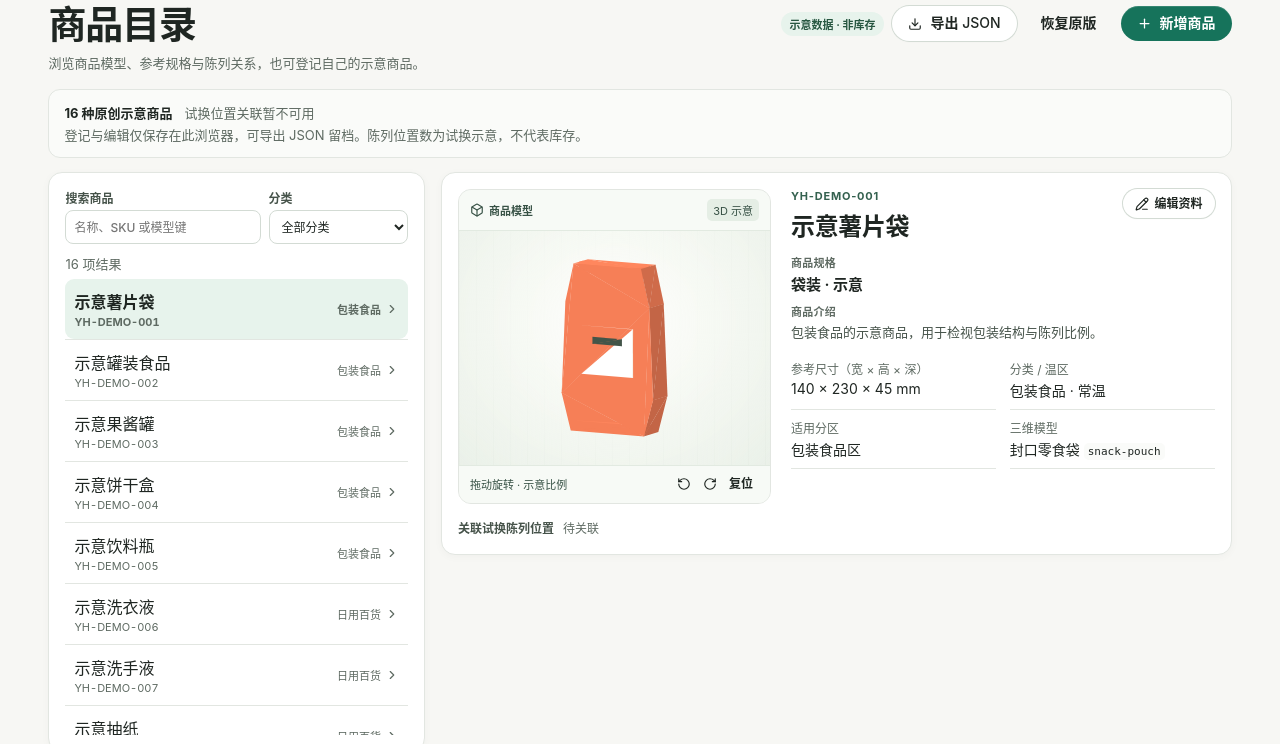
it: keeps invalid entries out of storage and restores keyboard focus on cancel
This screenshot has width=1280, height=744.
Click the button "新增商品".
click(1176, 24)  # box [1121,6,1232,41]
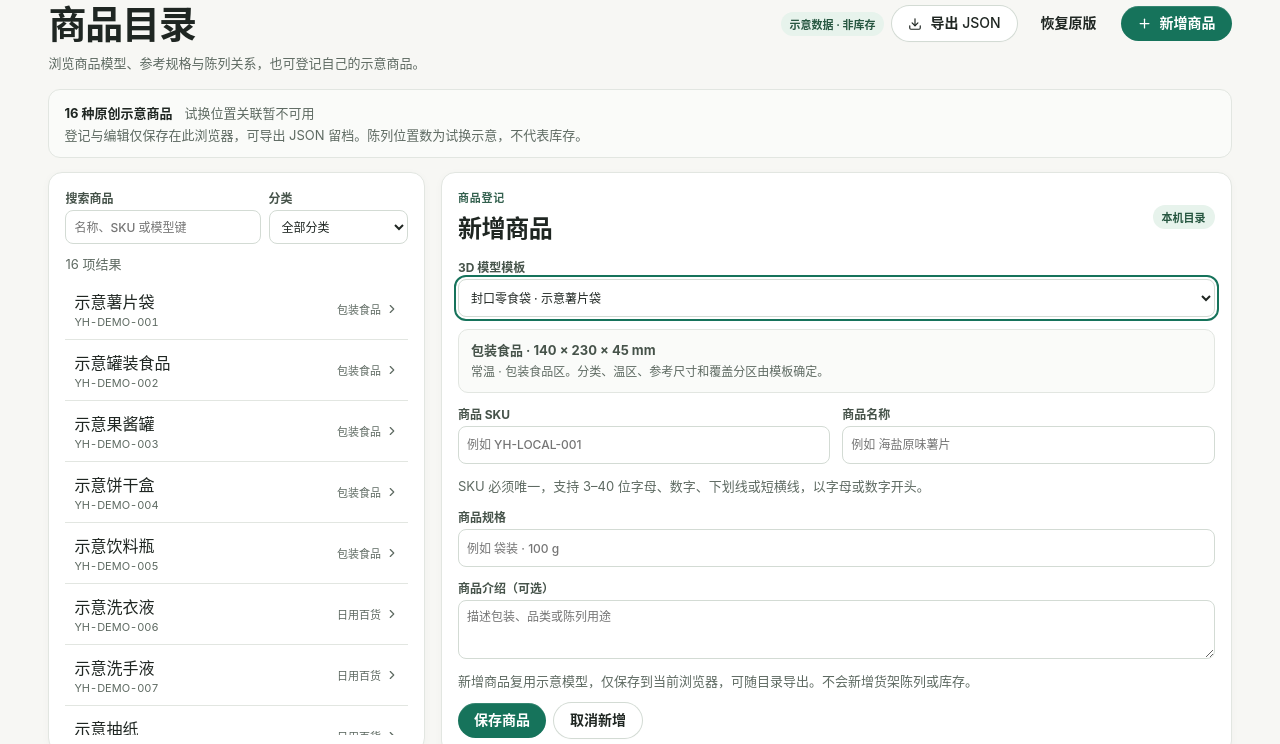
Type "yh-demo-001" into the field labelled "商品 SKU".
click(644, 445); type("yh-demo-001")  # box [458,426,830,464]
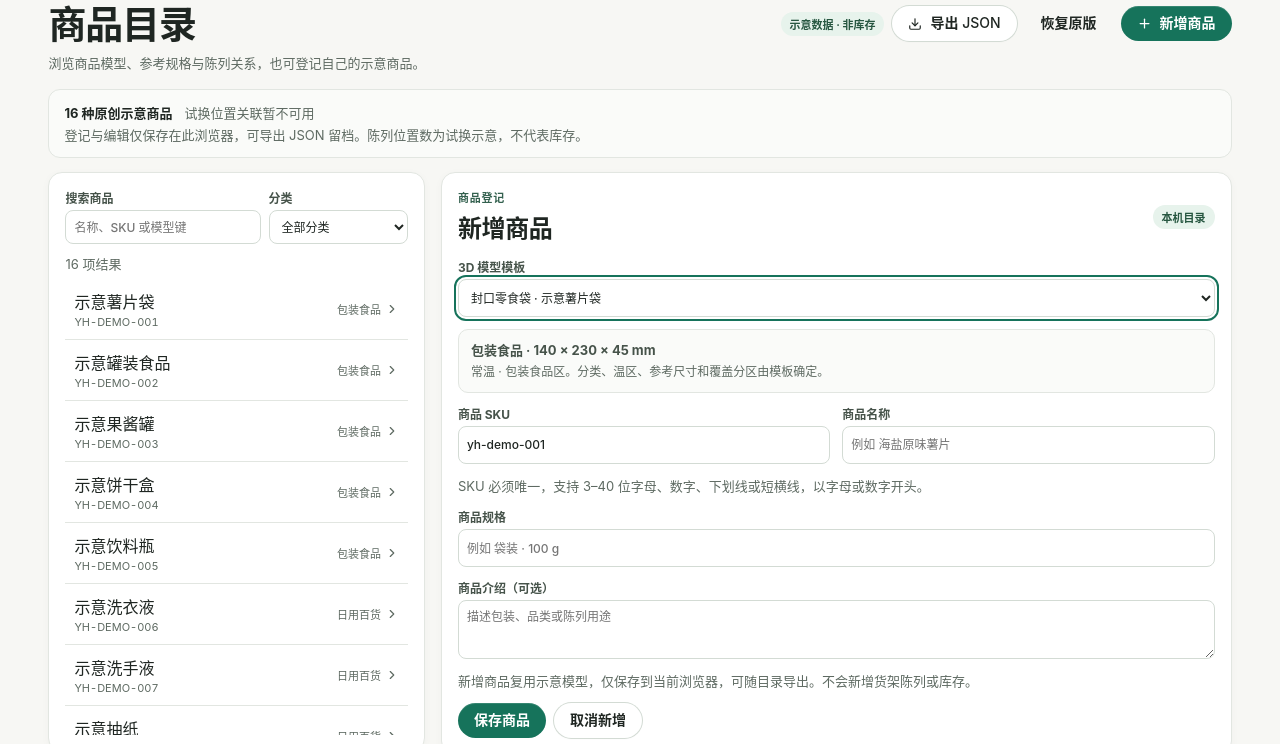
Type "重复编号" into the field labelled "商品名称".
click(1028, 445); type("重复编号")  # box [842,426,1215,464]
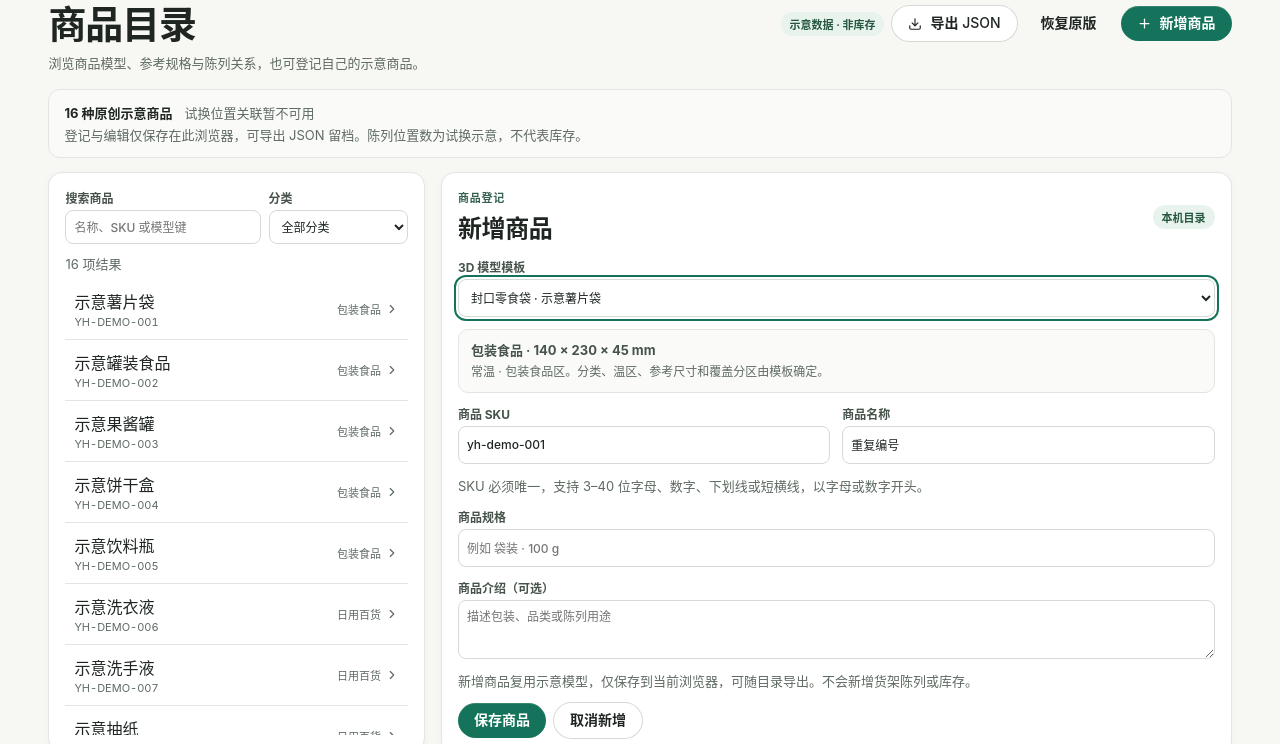
Type "示意袋装" into the field labelled "商品规格".
click(836, 548); type("示意袋装")  # box [458,529,1215,567]
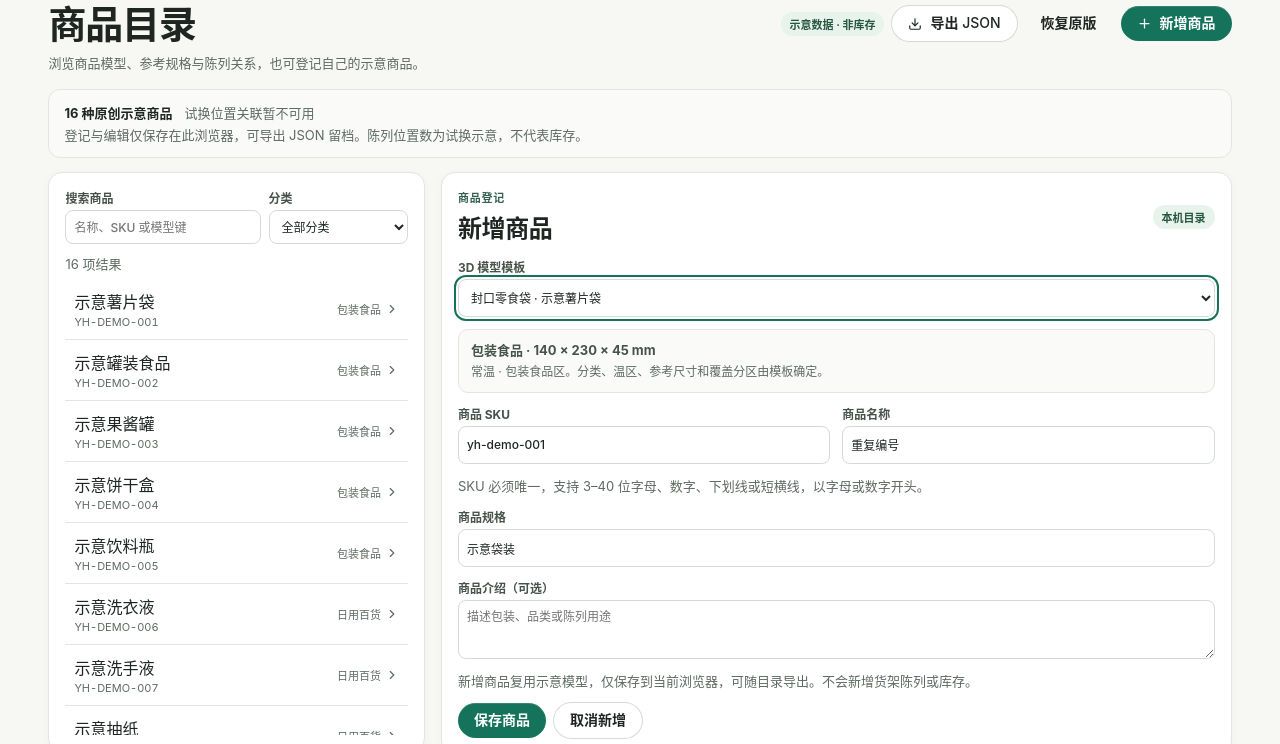
Click the button "保存商品".
click(502, 721)  # box [458,703,546,738]
(page scrolled)
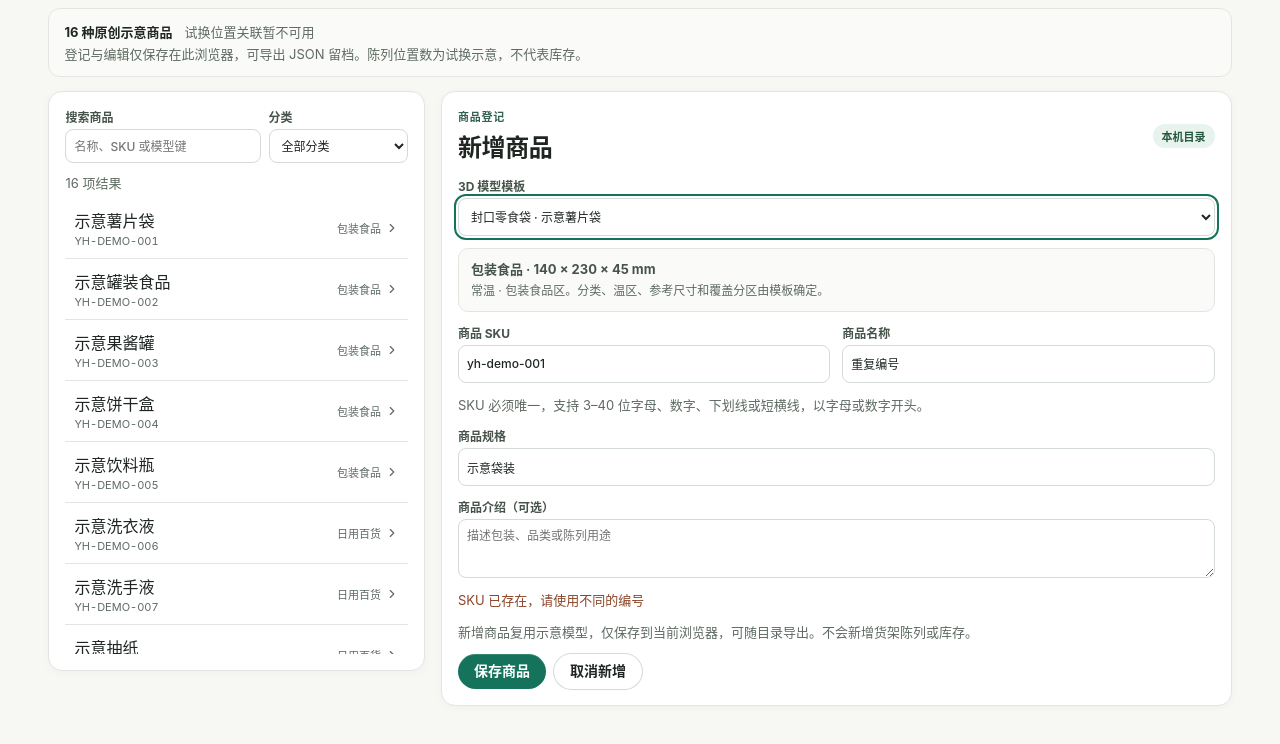
Check: the message shows "SKU 已存在", box [458,592,644,608]
Click the button "取消新增".
click(598, 672)  # box [554,654,642,689]
(page scrolled)
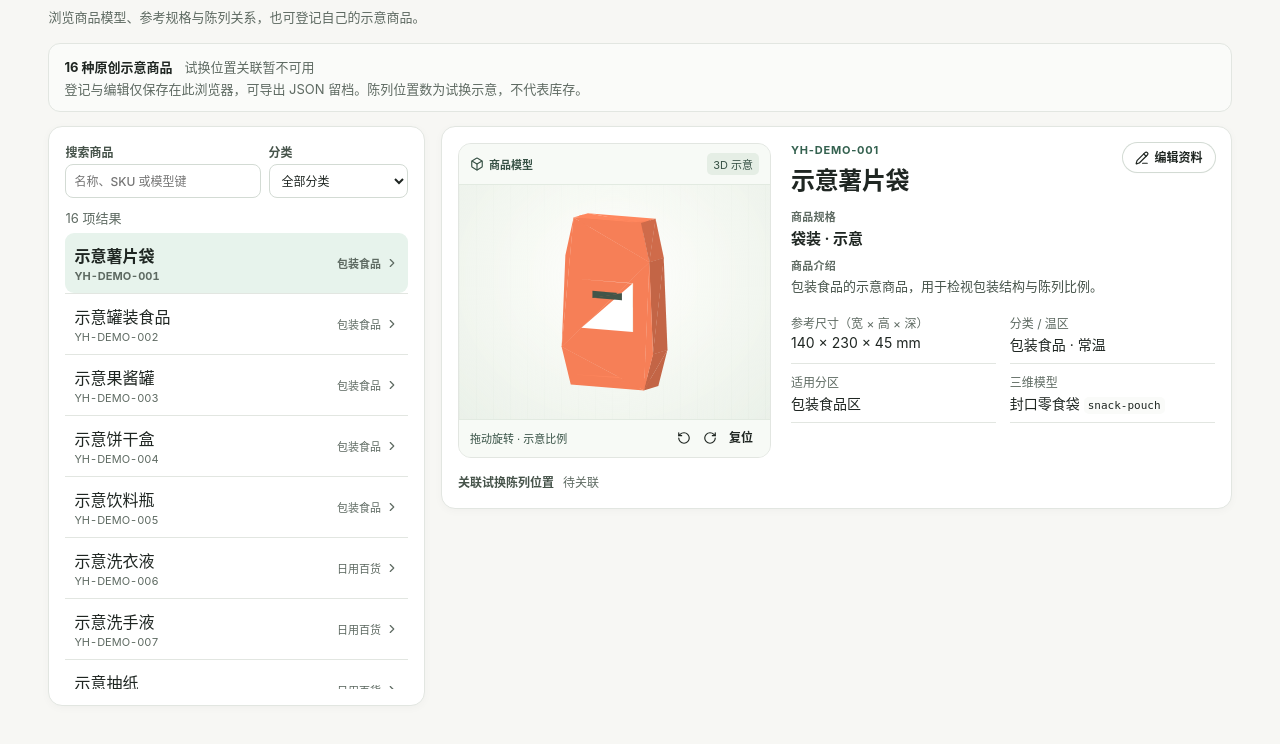
Check: the form "新增商品表单" is gone
